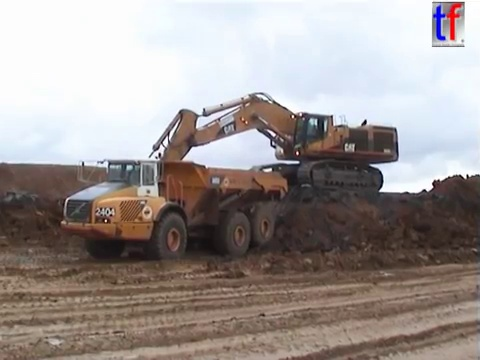excavator: (121, 90, 401, 212)
truck: (58, 149, 291, 263)
